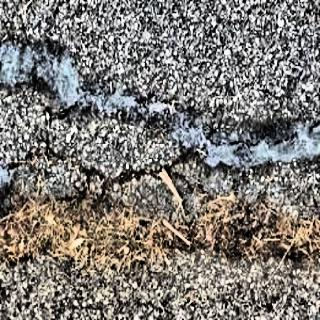crack: (2, 125, 320, 220)
